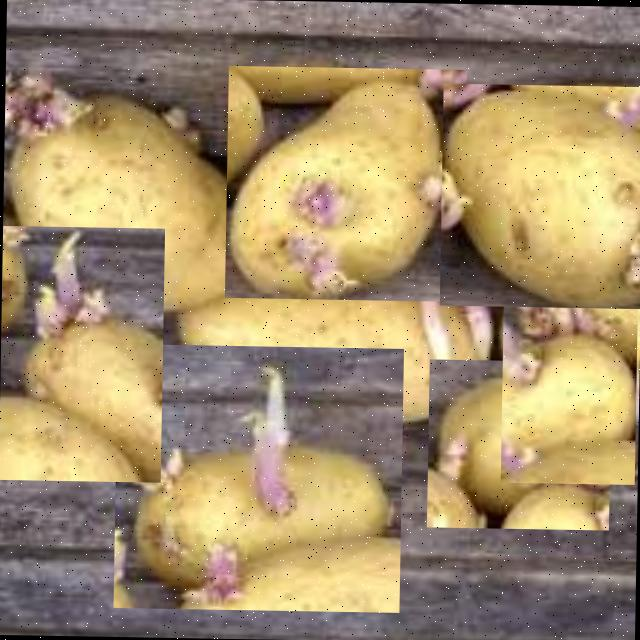Sprouted potato: (112, 342, 403, 612), (151, 242, 500, 458), (1, 62, 268, 320), (224, 64, 466, 300), (438, 82, 640, 307), (0, 224, 163, 481), (426, 358, 610, 530), (499, 255, 637, 484)
